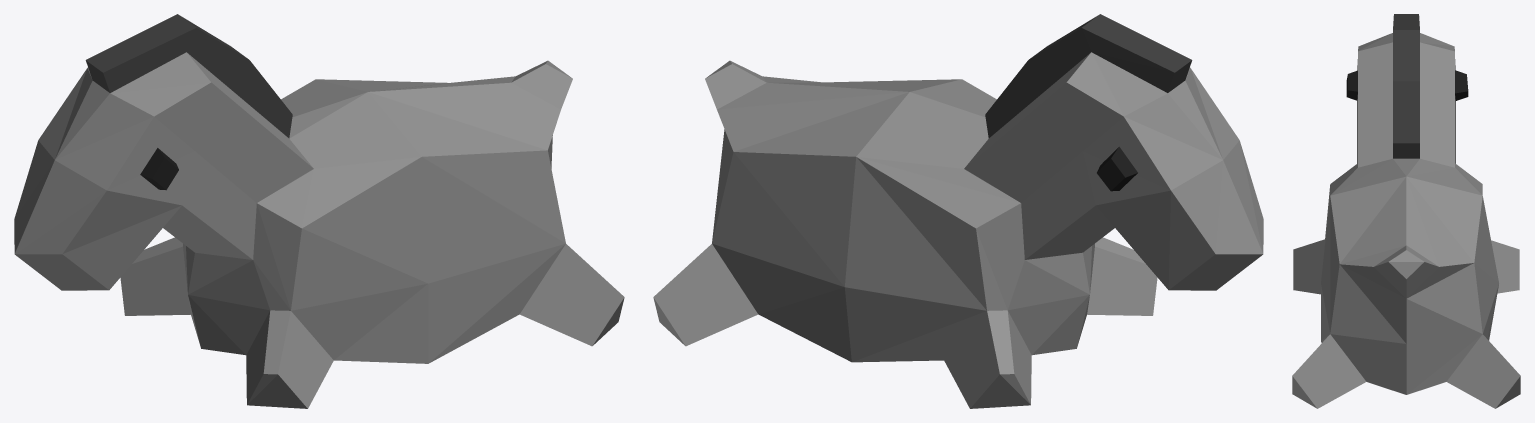
The model's file is stuffed_A.FBX.
The picture shows the model from 3 angles, left to right: view 1: azimuth 30°, elevation 25°; view 2: azimuth 150°, elevation 25°; view 3: azimuth 270°, elevation 25°; orthographic projection. The views are drawn at different scales.
Visible parts, largest first — view 1: stuffed_A; view 2: stuffed_A; view 3: stuffed_A.
Part boxes in pixels (x1,y1,x2,y2): stuffed_A: (14, 14, 624, 408); stuffed_A: (653, 14, 1263, 408); stuffed_A: (1292, 14, 1520, 408).
Bounding box in the file's own units: 35.88 × 22.9 × 17.8.
